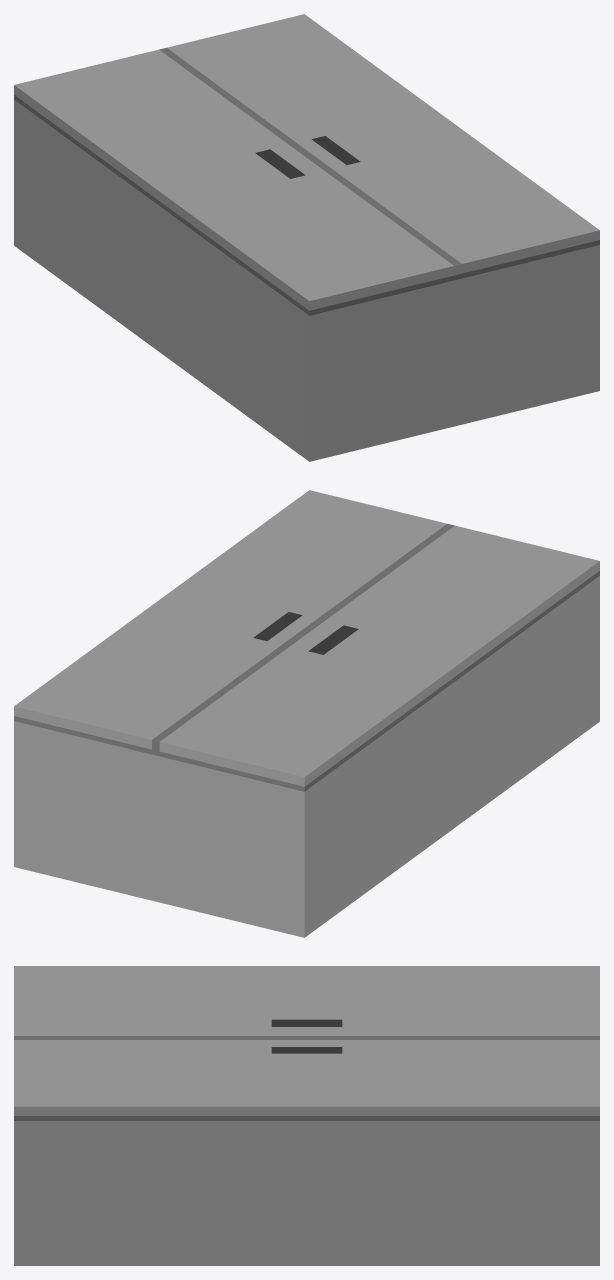
Rendered from CupBoard.glb.
3 views of the same model, one above another, from view 1: azimuth 30°, elevation 25°; view 2: azimuth 150°, elevation 25°; view 3: azimuth 270°, elevation 25° (orthographic).
Parts seen in each view (by area): view 1: SO_Cupboard; view 2: SO_Cupboard; view 3: SO_Cupboard.
Part boxes in pixels (<box>): SO_Cupboard: <box>14,14,599,461</box>; SO_Cupboard: <box>14,490,599,937</box>; SO_Cupboard: <box>14,966,599,1265</box>.
Size of the model in its own units: 1.71 by 0.9055 by 3.02.
Materials: 1 (1 with a texture image).
